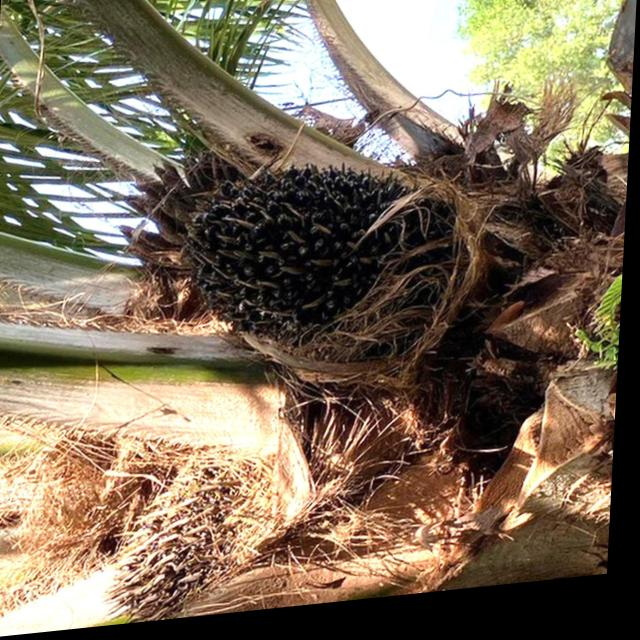unripe: (172, 162, 427, 364)
